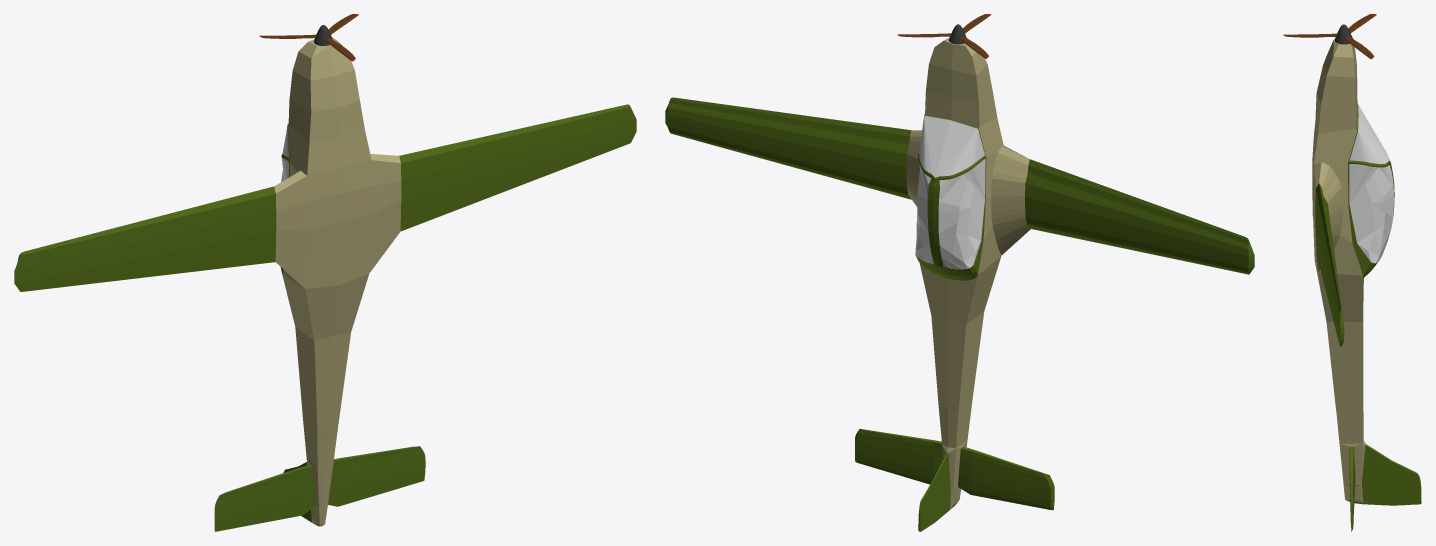
The model's file is lowpolyplane - REMAKE.fbx.
3 renders of one model, left to right at view 1: azimuth 30°, elevation 25°; view 2: azimuth 150°, elevation 25°; view 3: azimuth 270°, elevation 25°, orthographic. The views are drawn at different scales.
Visible parts, largest first — view 1: Plane_remastered; view 2: Plane_remastered; view 3: Plane_remastered, Fan, fan blade, fan blade.001, fan blade.002.
Part boxes in pixels (x1,y1,x2,y2): Plane_remastered: (14,37,636,531); Plane_remastered: (665,37,1254,531); Plane_remastered: (1312,36,1421,531); Fan: (1334,24,1352,44); fan blade: (1344,37,1374,58); fan blade.001: (1283,33,1336,37); fan blade.002: (1348,14,1376,32).
Bounding box in the file's own units: 1857 × 1448 × 377.
